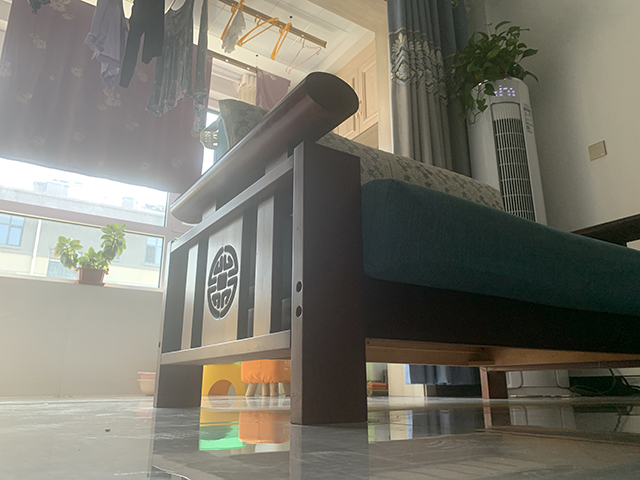sofa: (152, 70, 640, 427)
stool: (239, 359, 291, 397), (202, 364, 248, 397)
wire: (570, 367, 640, 397)
